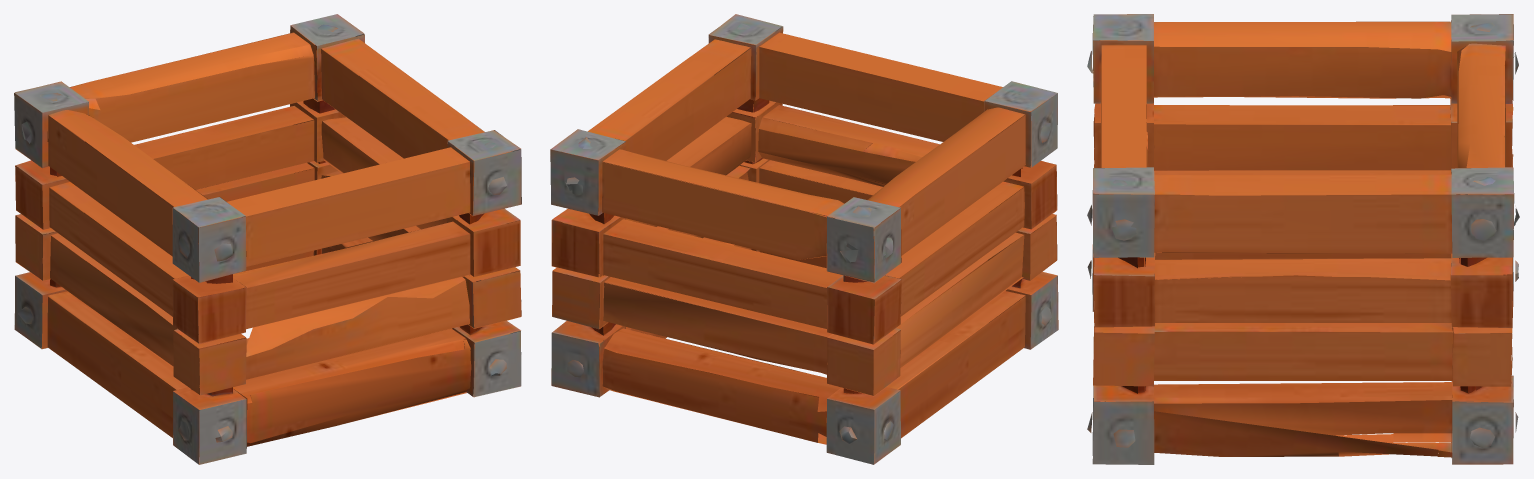
File: crate_3.glb
The picture shows the model from 3 angles, left to right: view 1: azimuth 30°, elevation 25°; view 2: azimuth 150°, elevation 25°; view 3: azimuth 270°, elevation 25°; orthographic projection. The views are drawn at different scales.
Visible parts, largest first — view 1: Mesh_0; view 2: Mesh_0; view 3: Mesh_0.
Part boxes in pixels (x1=…): Mesh_0: x1=14, y1=14, x2=521, y2=464; Mesh_0: x1=550, y1=14, x2=1058, y2=464; Mesh_0: x1=1087, y1=14, x2=1519, y2=464.
Size of the model in its own units: 0.6 by 0.4201 by 0.5981.
1 material, 1 textured.
